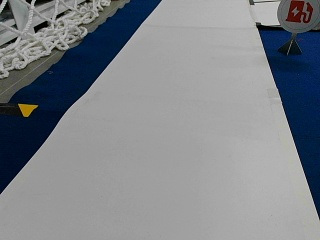battery: (276, 0, 318, 32)
